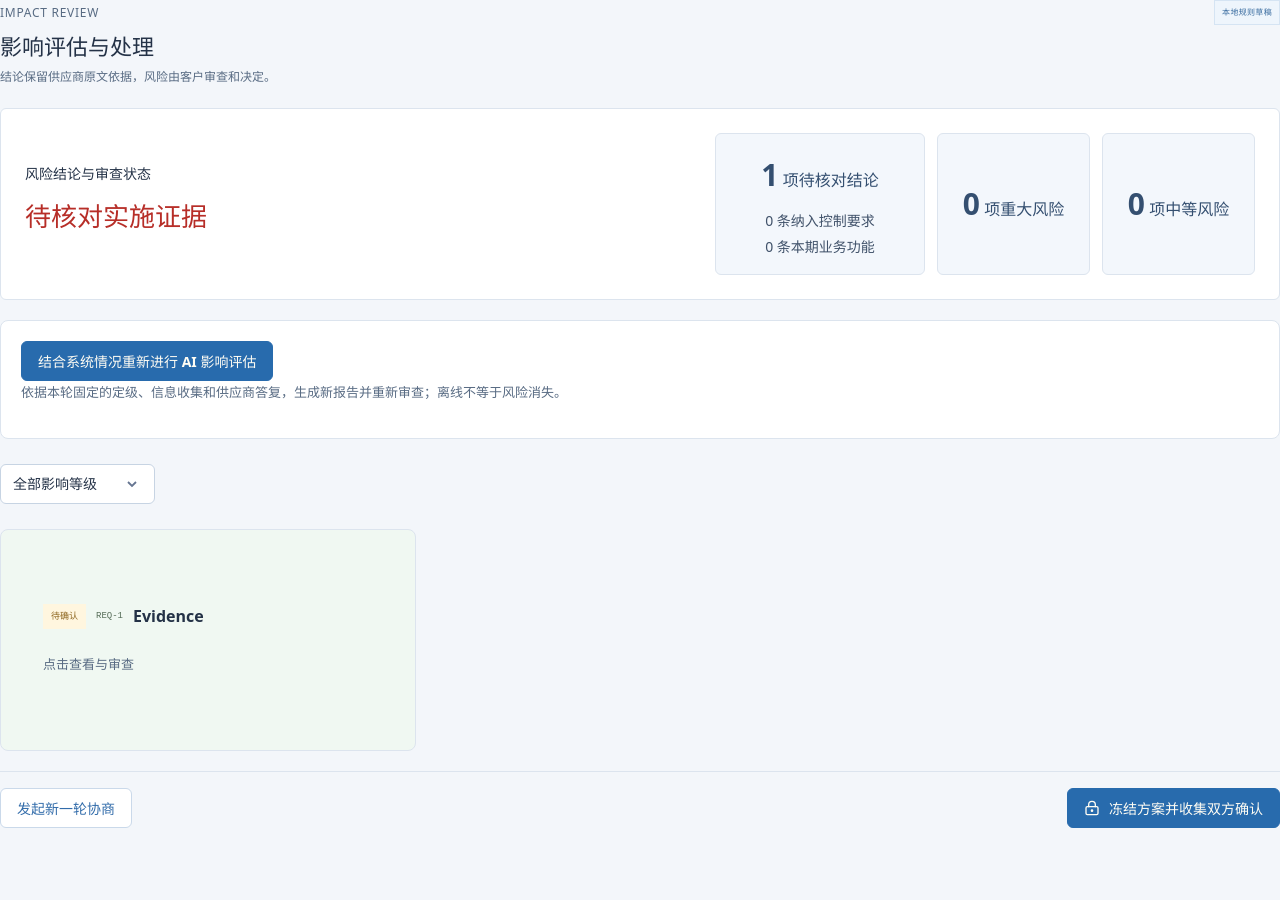
Test: includes supplier commitments without another owner acceptance and allows joint confirmation
Check: the button "冻结方案并收集双方确认" is enabled, box [1067,788,1279,828]
Click the button "待确认 REQ-1 Evidence 点击查看与审查" at {"x": 65, "y": 617}, box [21,550,395,730]
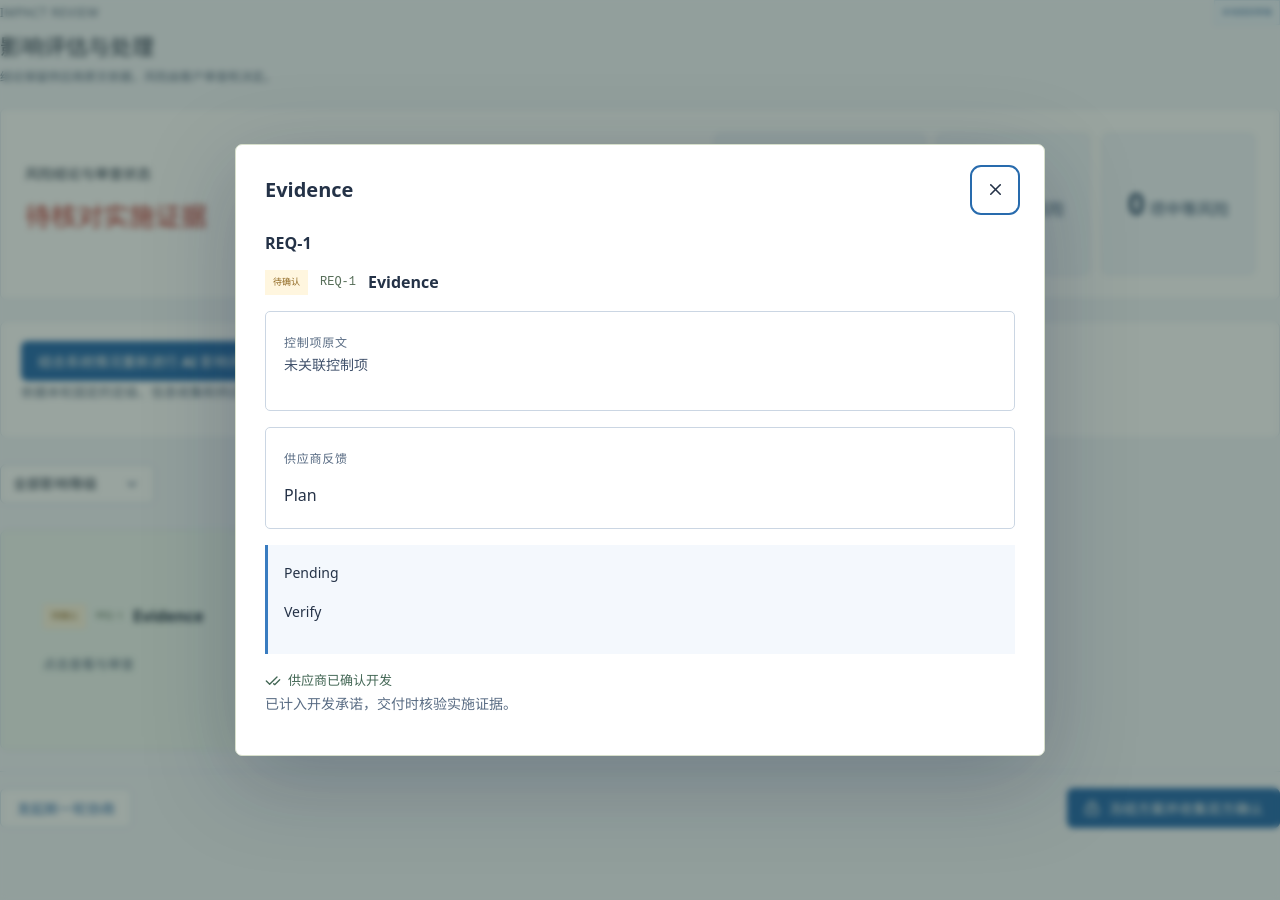
Check: the text "供应商已确认开发" is shown, box [265,671,392,689]
